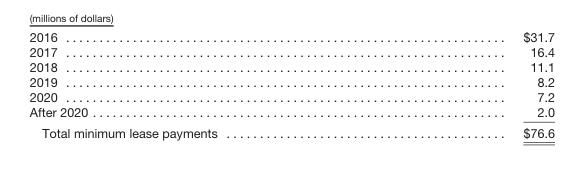table: (28, 28, 554, 139)
table column: (28, 28, 369, 139), (369, 28, 554, 139)
table row: (28, 104, 554, 122), (28, 122, 554, 139), (28, 43, 554, 59), (28, 28, 554, 43), (28, 59, 554, 74), (28, 74, 554, 89), (28, 89, 554, 104)
